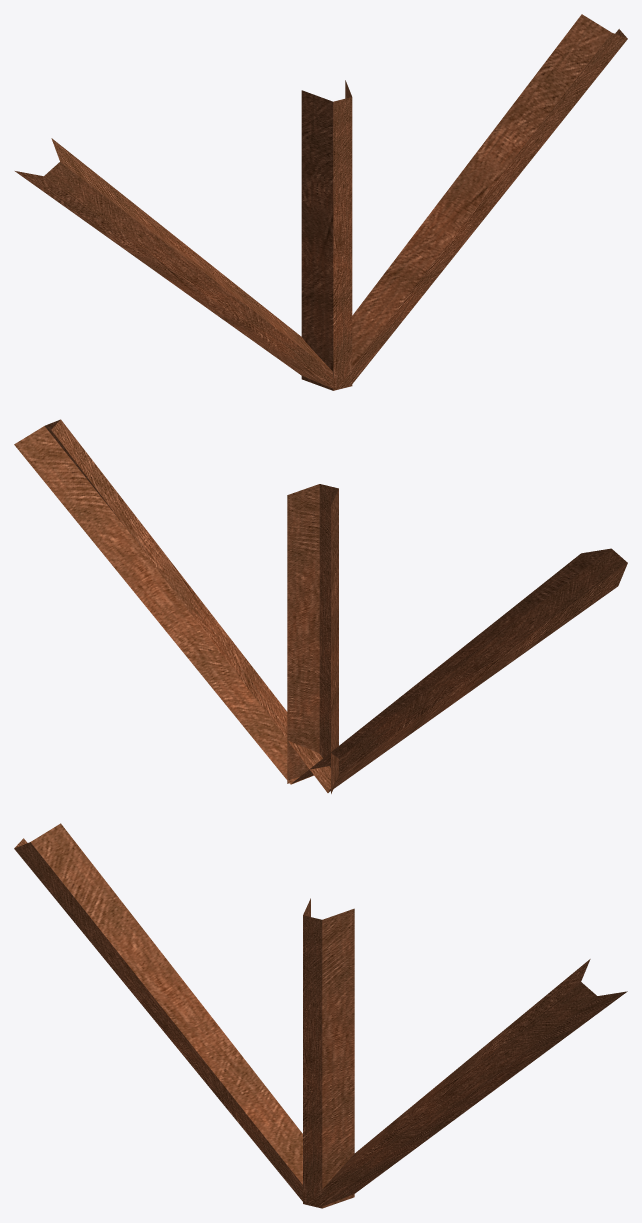
File: fanasty_mod_sml_V_beam.fbx
3 renders of one model, top to bottom at view 1: azimuth 30°, elevation 25°; view 2: azimuth 150°, elevation 25°; view 3: azimuth 330°, elevation 25°, orthographic.
Visible parts, largest first — view 1: sml_V_beam; view 2: sml_V_beam; view 3: sml_V_beam.
Boxes of the visible parts, x1,y1,x2,y2 form: sml_V_beam: [15, 14, 627, 390]; sml_V_beam: [14, 419, 627, 793]; sml_V_beam: [14, 823, 627, 1208].
Bounding box in the file's own units: 5.32 × 2.54 × 0.3012.
